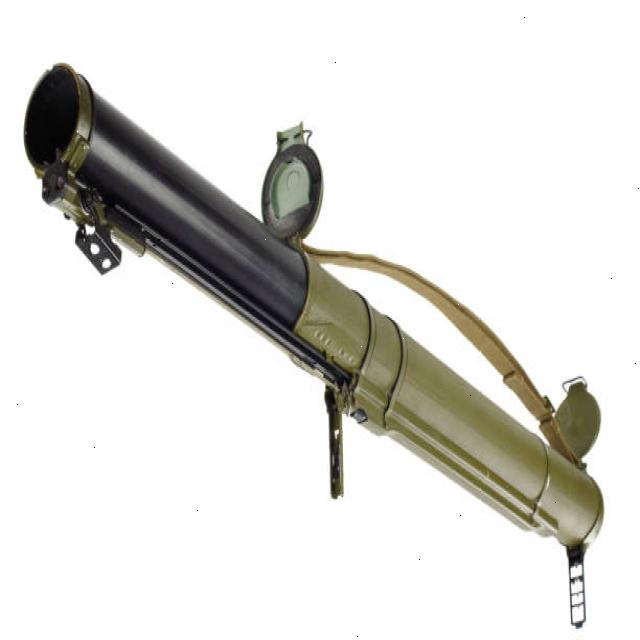bazooka: (17, 52, 612, 639)
